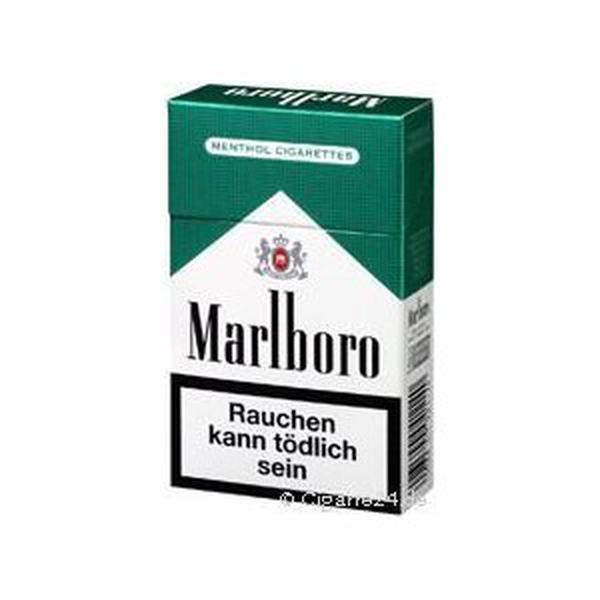marlboro_mentol: (170, 112, 402, 489)
